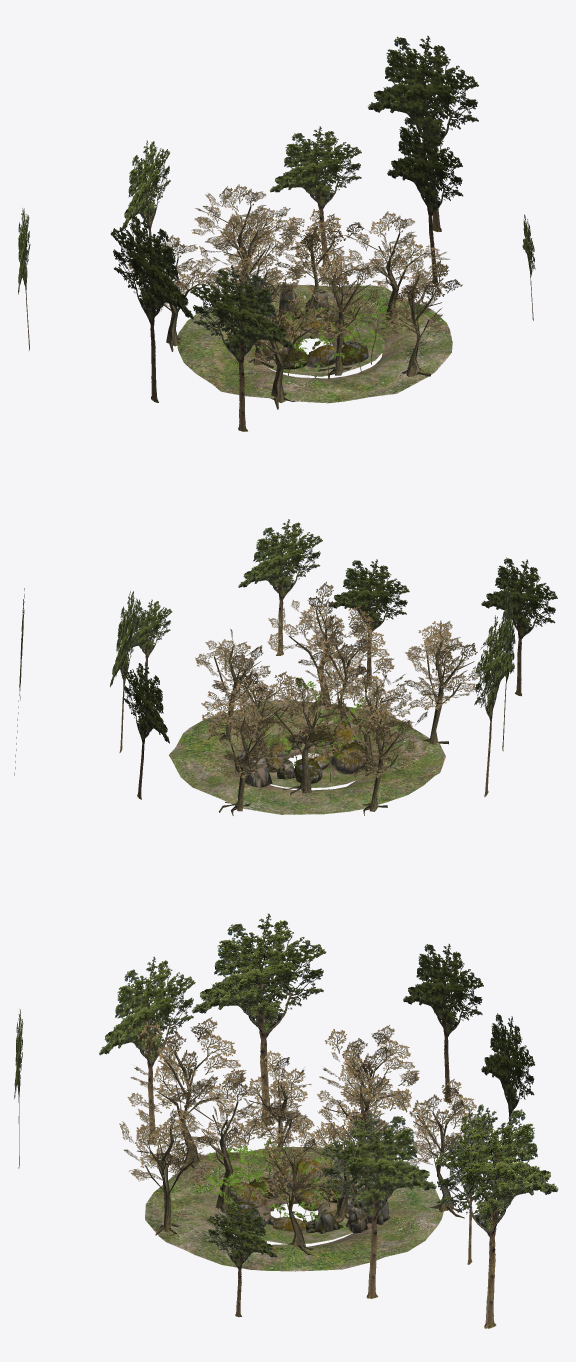
The model's file is outerspace.glb.
3 renders of one model, top to bottom at view 1: azimuth 30°, elevation 25°; view 2: azimuth 150°, elevation 25°; view 3: azimuth 270°, elevation 25°, orthographic. The views are drawn at different scales.
Parts seen in each view (by area): view 1: treeplane, ground_outer, treeyellow7.001, treeyellow3.001, treeyellow2.001, treeyellow8.001, big_mossrock_outer, Little_tree_var12, pasted__Big_5; view 2: treeplane, ground_outer, treeyellow7.001, treeyellow3.001, treeyellow2.001, big_mossrock_outer, treeyellow8.001, pasted__Big_5, Little_tree_var12, Little_tree_var5; view 3: treeplane, ground_outer, treeyellow7.001, treeyellow3.001, treeyellow2.001, treeyellow8.001, big_mossrock_outer, pasted__Big_5, Little_tree_var12, Little_tree_var5, Little_tree_var2.
Part boxes in pixels (x1=…): treeplane: x1=18, y1=35, x2=535, y2=431; ground_outer: x1=177, y1=284, x2=452, y2=403; treeyellow7.001: x1=224, y1=247, x2=462, y2=409; treeyellow3.001: x1=191, y1=184, x2=363, y2=322; treeyellow2.001: x1=123, y1=235, x2=308, y2=368; treeyellow8.001: x1=341, y1=211, x2=449, y2=322; big_mossrock_outer: x1=255, y1=315, x2=368, y2=369; Little_tree_var12: x1=309, y1=307, x2=394, y2=378; pasted__Big_5: x1=279, y1=286, x2=347, y2=332; treeplane: x1=14, y1=519, x2=557, y2=799; ground_outer: x1=169, y1=699, x2=445, y2=814; treeyellow7.001: x1=267, y1=581, x2=493, y2=744; treeyellow3.001: x1=201, y1=655, x2=353, y2=815; treeyellow2.001: x1=319, y1=665, x2=427, y2=815; big_mossrock_outer: x1=267, y1=722, x2=365, y2=783; treeyellow8.001: x1=195, y1=629, x2=270, y2=742; pasted__Big_5: x1=235, y1=745, x2=295, y2=787; Little_tree_var12: x1=295, y1=677, x2=372, y2=742; Little_tree_var5: x1=311, y1=717, x2=383, y2=781; treeplane: x1=14, y1=913, x2=558, y2=1328; ground_outer: x1=145, y1=1146, x2=443, y2=1271; treeyellow7.001: x1=119, y1=1017, x2=281, y2=1235; treeyellow3.001: x1=311, y1=1055, x2=492, y2=1219; treeyellow2.001: x1=242, y1=1025, x2=419, y2=1164; treeyellow8.001: x1=252, y1=1117, x2=343, y2=1255; big_mossrock_outer: x1=228, y1=1158, x2=357, y2=1231; pasted__Big_5: x1=305, y1=1186, x2=389, y2=1233; Little_tree_var12: x1=202, y1=1148, x2=268, y2=1224; Little_tree_var5: x1=233, y1=1139, x2=343, y2=1188; Little_tree_var2: x1=267, y1=1175, x2=340, y2=1231.
Bounding box in the file's own units: 151664 × 63506 × 135338.
Materials: 11 (11 with a texture image).
